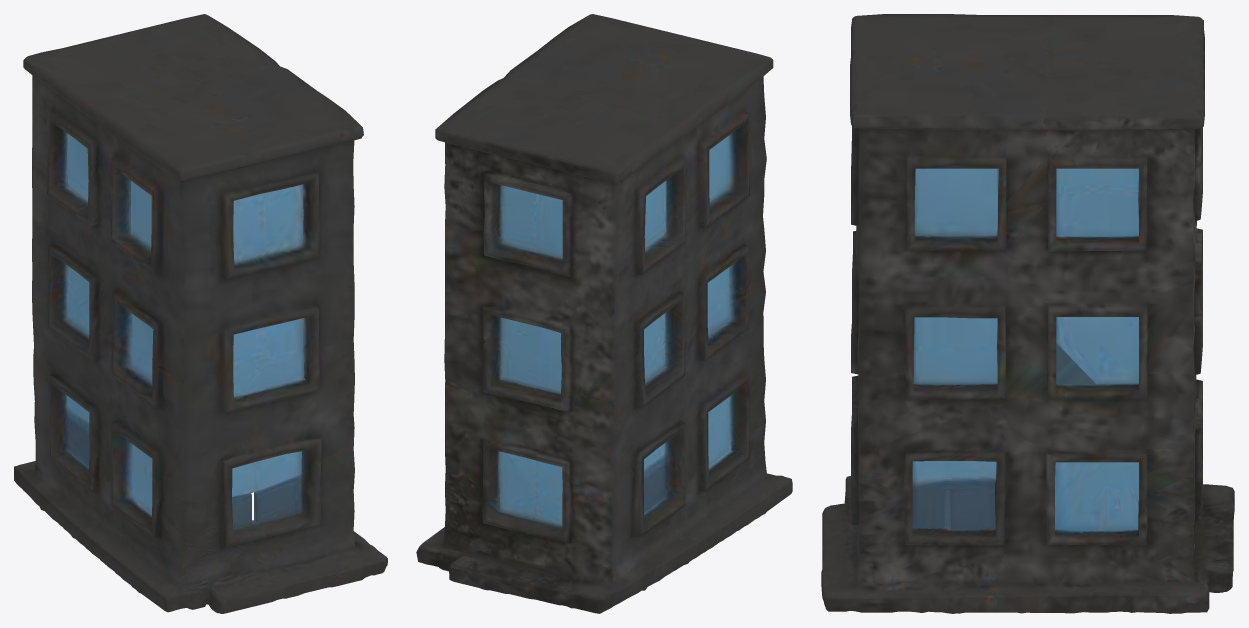
The model's file is street-facade-concrete.glb.
3 views of the same model, side by side, from view 1: azimuth 30°, elevation 25°; view 2: azimuth 150°, elevation 25°; view 3: azimuth 270°, elevation 25° (orthographic). The views are drawn at different scales.
Visible parts, largest first — view 1: tripo_node_30b271af-9ba4-4c0a-a0e4-e23c0c68e2d7; view 2: tripo_node_30b271af-9ba4-4c0a-a0e4-e23c0c68e2d7; view 3: tripo_node_30b271af-9ba4-4c0a-a0e4-e23c0c68e2d7.
Part boxes in pixels (x1,y1,x2,y2): tripo_node_30b271af-9ba4-4c0a-a0e4-e23c0c68e2d7: (14, 14, 387, 613); tripo_node_30b271af-9ba4-4c0a-a0e4-e23c0c68e2d7: (416, 14, 792, 613); tripo_node_30b271af-9ba4-4c0a-a0e4-e23c0c68e2d7: (821, 14, 1234, 613).
Size of the model in its own units: 5.66 by 11 by 8.37.
Materials: 1 (1 with a texture image).
